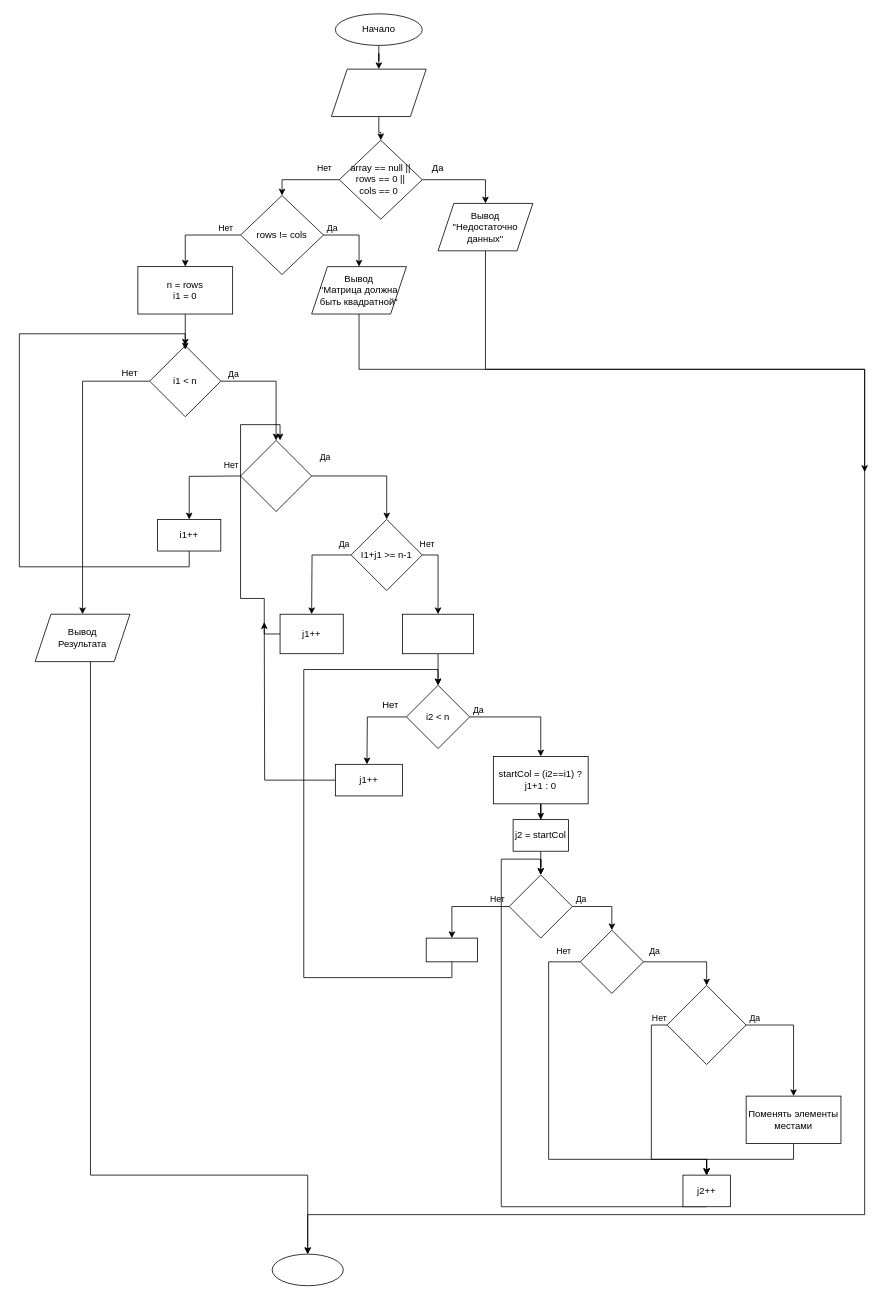
The diagram is 885 pixels wide and 1300 high, and some of its shapes have lost their labels. The shapes that lost their labels are listed below. From the top down, each one's box as (x1, y1, x2, y2) in pixels, then its label:
(331, 68, 426, 117): Ввод array, rows, cols
(240, 440, 312, 512): j1 < n
(402, 613, 474, 654): i2 = i1
(508, 874, 572, 938): j2 < n
(425, 937, 478, 962): i2++
(579, 929, 643, 993): i2+j2 > n-1
(666, 985, 746, 1065): array[i1][j1] > array[i2][j2]
(271, 1253, 343, 1286): Конец
